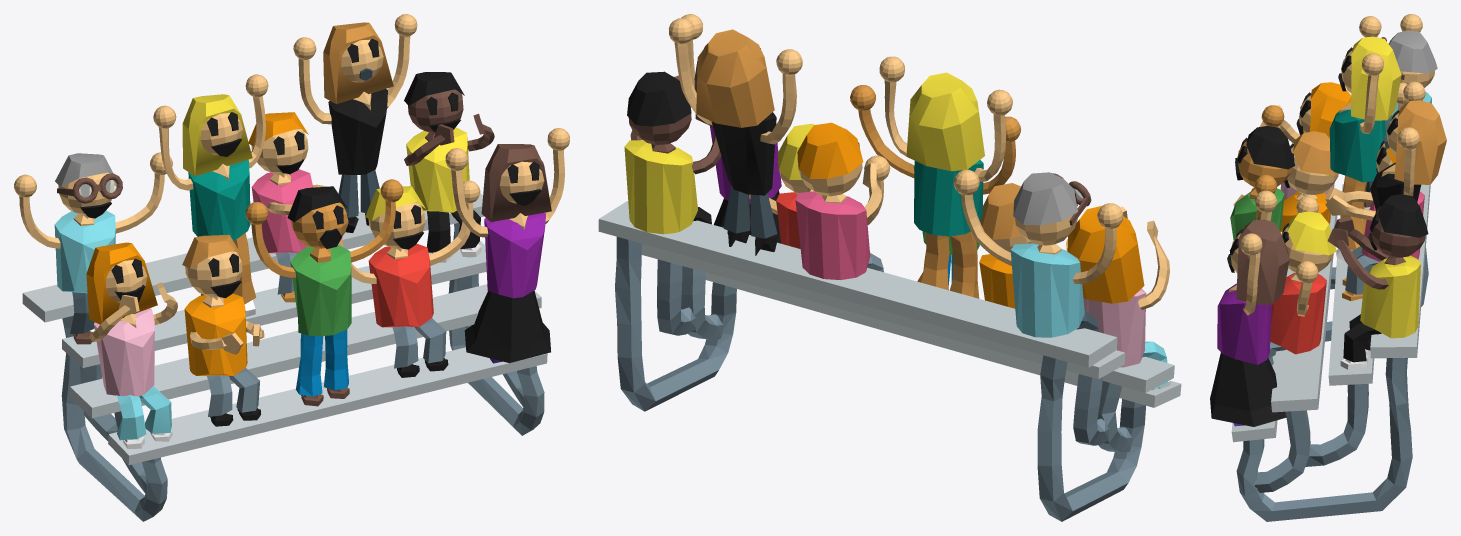
Rendered from people.dae.
3 renders of one model, left to right at view 1: azimuth 30°, elevation 25°; view 2: azimuth 150°, elevation 25°; view 3: azimuth 270°, elevation 25°, orthographic. The views are drawn at different scales.
Visible parts, largest first — view 1: people; view 2: people; view 3: people.
Boxes of the visible parts, x1,y1,x2,y2 form: people: [14, 14, 569, 521]; people: [598, 14, 1181, 521]; people: [1210, 14, 1446, 521].
Size of the model in its own units: 0.1072 by 0.083 by 0.0477.
